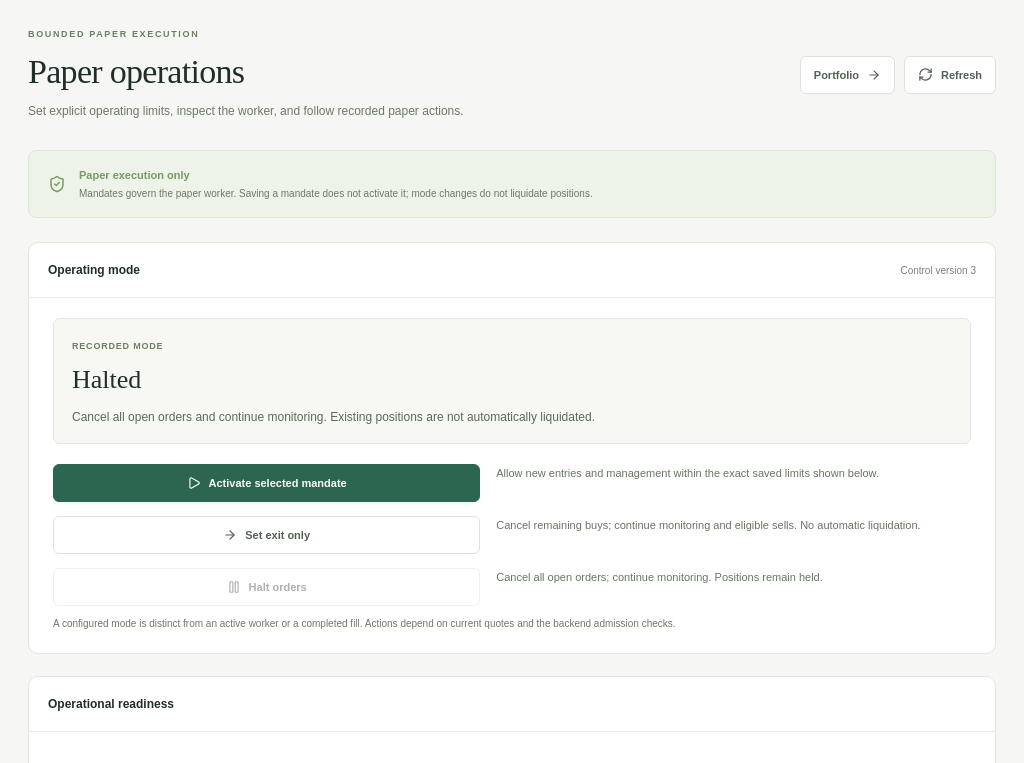
Test: paper operator controls › retains a specific admission error instead of mislabelling every 409 as a race
The width and height of the screenshot is (1024, 763).
Expected: the text "Control version 3" is shown, [900,263,976,278]
Click the button "Activate selected mandate" at (267, 483), box [53,464,480,502]
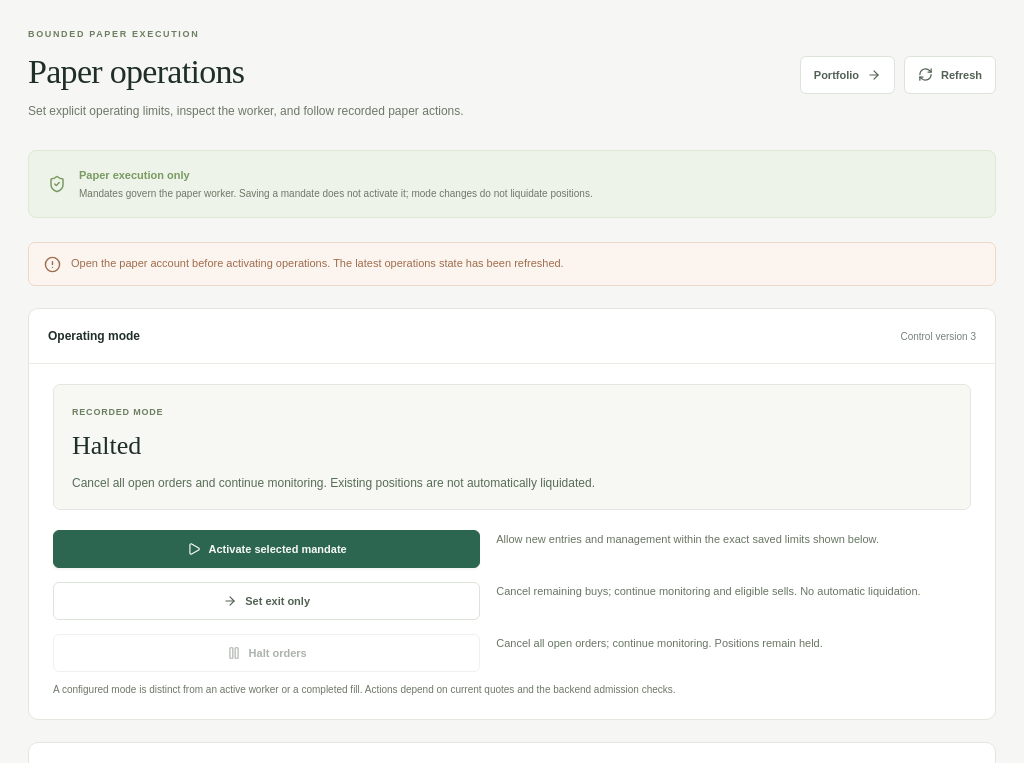
Expected: the text "Open the paper account before activating operations" is shown, [71,257,564,269]
